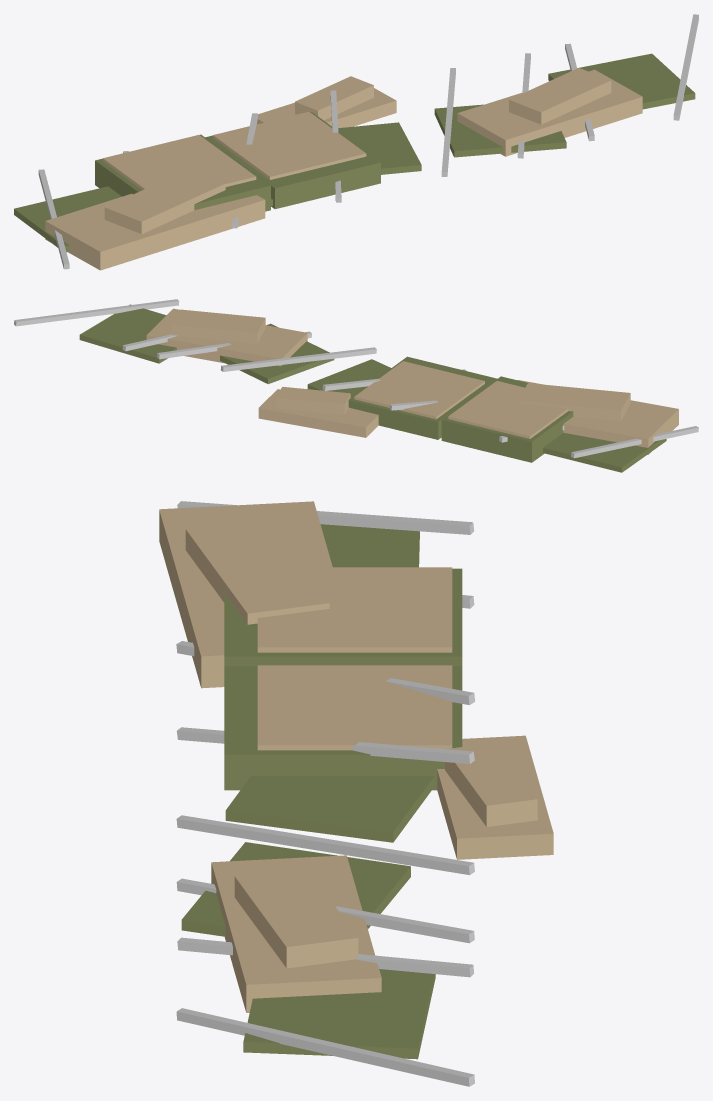
Rendered from SM_HescoCorto4_v0_MallaLimpia_e3_Brecha_LOD0.fbx.
3 views of the same model, one above another, from view 1: azimuth 30°, elevation 25°; view 2: azimuth 150°, elevation 25°; view 3: azimuth 270°, elevation 25° (orthographic). The views are drawn at different scales.
Visible parts, largest first — view 1: SM_hesco_piezas_v103_LOD0; view 2: SM_hesco_piezas_v103_LOD0; view 3: SM_hesco_piezas_v103_LOD0.
Part boxes in pixels (left/top/right/bottom): SM_hesco_piezas_v103_LOD0: left=14, top=14, right=698, bottom=270; SM_hesco_piezas_v103_LOD0: left=14, top=299, right=698, bottom=472; SM_hesco_piezas_v103_LOD0: left=159, top=501, right=553, bottom=1086.
Bounding box in the file's own units: 7.26 × 0.3263 × 2.02.
